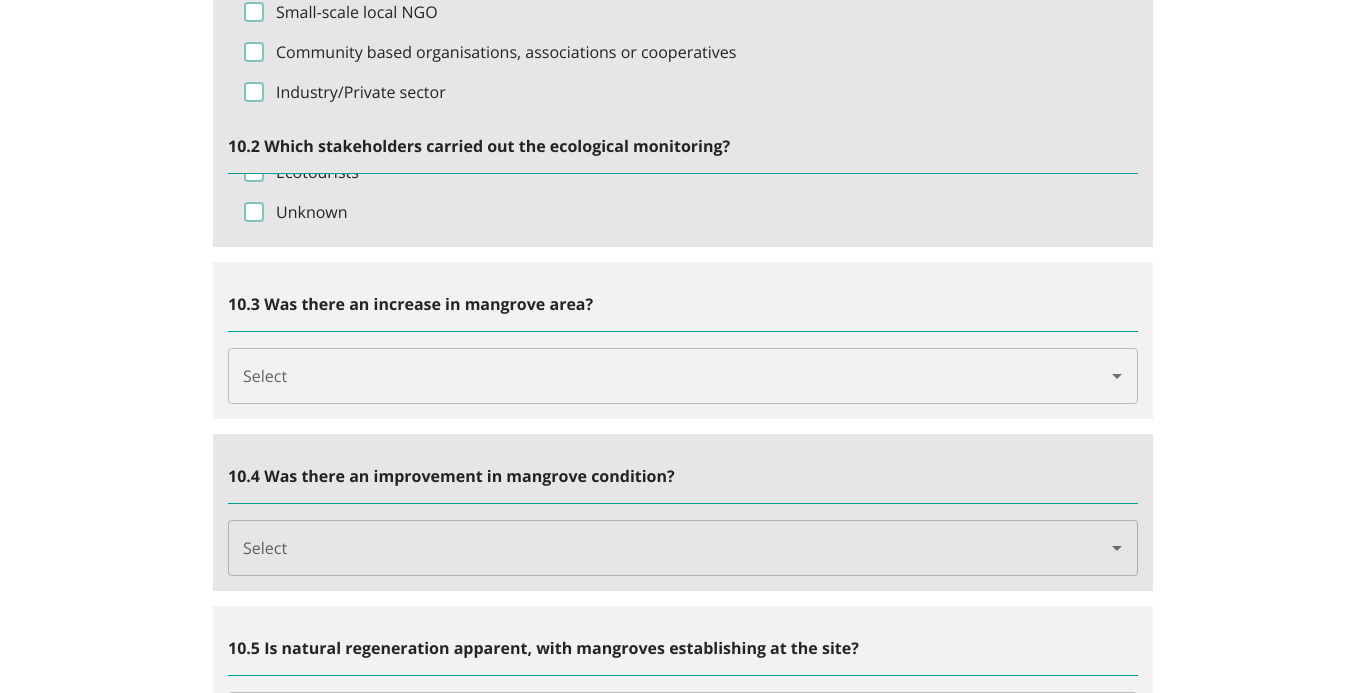
Test: monitoring forms › EcologicalStatusAndOutcomesForm › asks for the other unit only when "other" is picked
(page scrolled)
What coordinates should you click on to do the following:
click the dropdown named "10.3 Was there an increase in mangrove area?"
I would click on:
 (265, 376)
Its box is [228,348,1138,404].
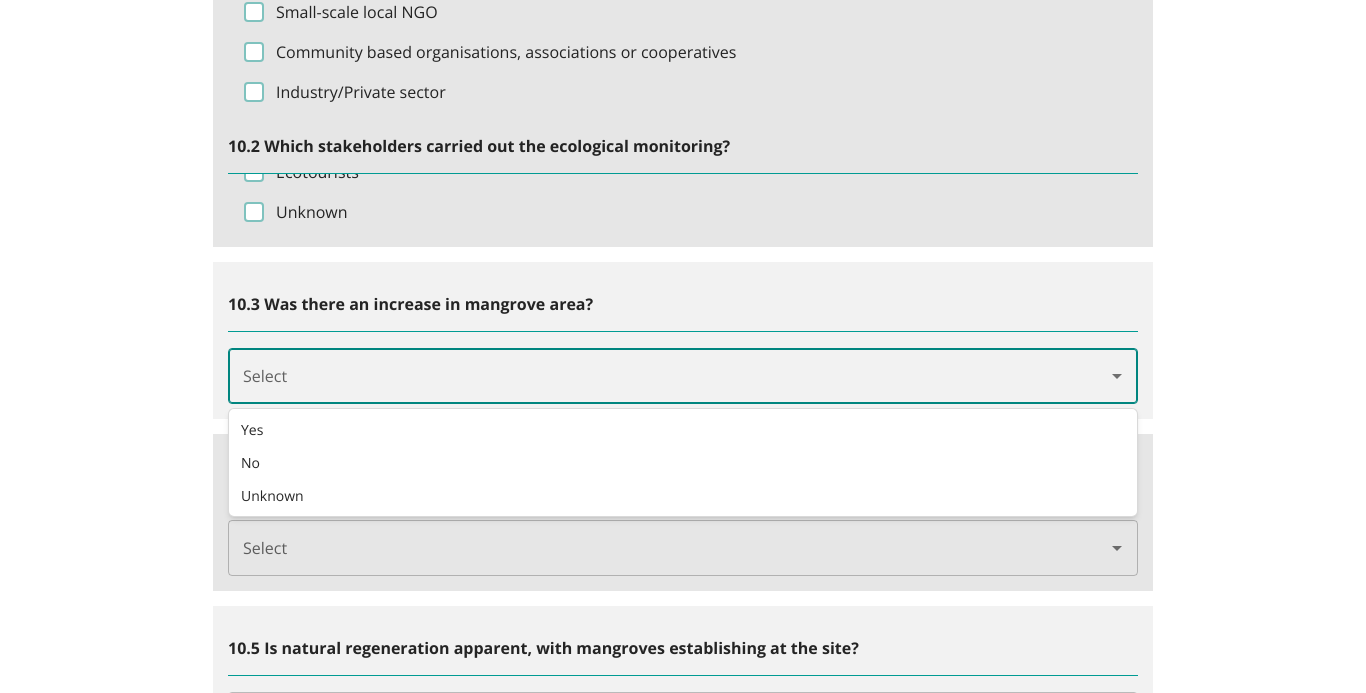
What coordinates should you click on to do the following:
click the option "Yes"
I would click on:
 (252, 430)
Its box is [241,420,263,439].
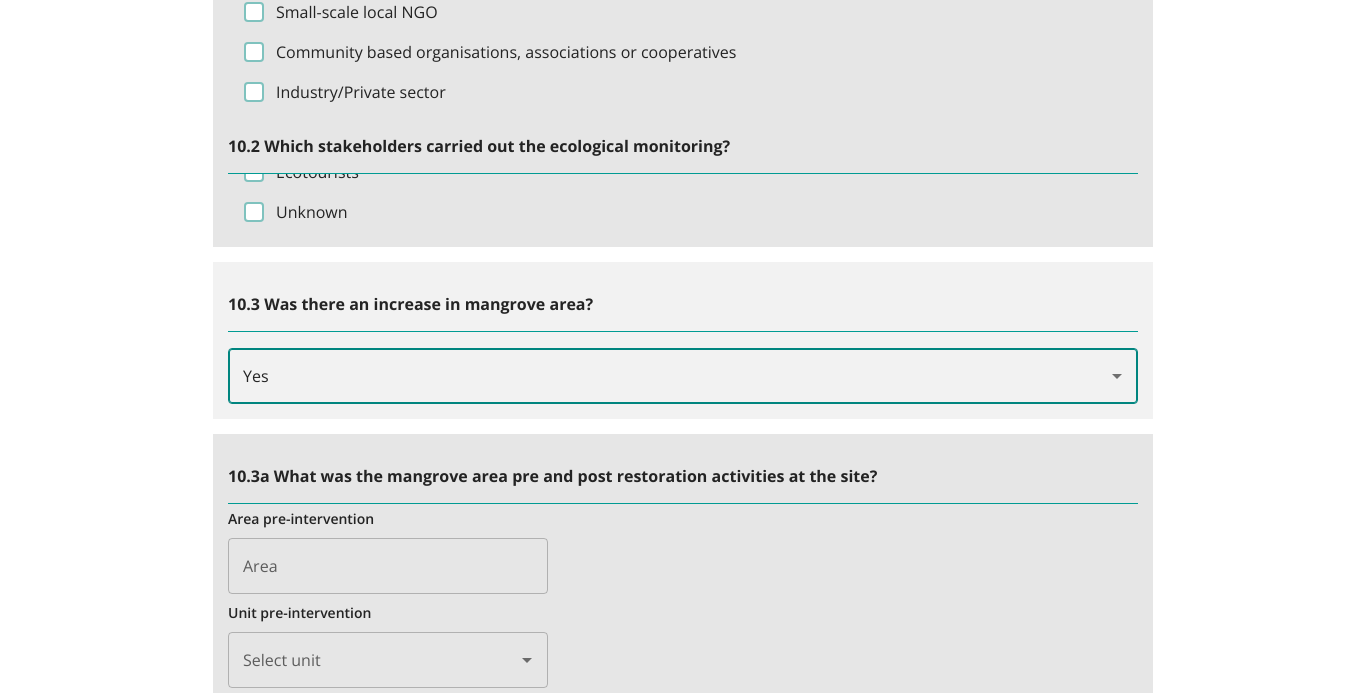
What coordinates should you click on to do the following:
click the dropdown named "Unit pre-intervention"
I would click on:
 (282, 660)
Its box is [228,632,548,688].
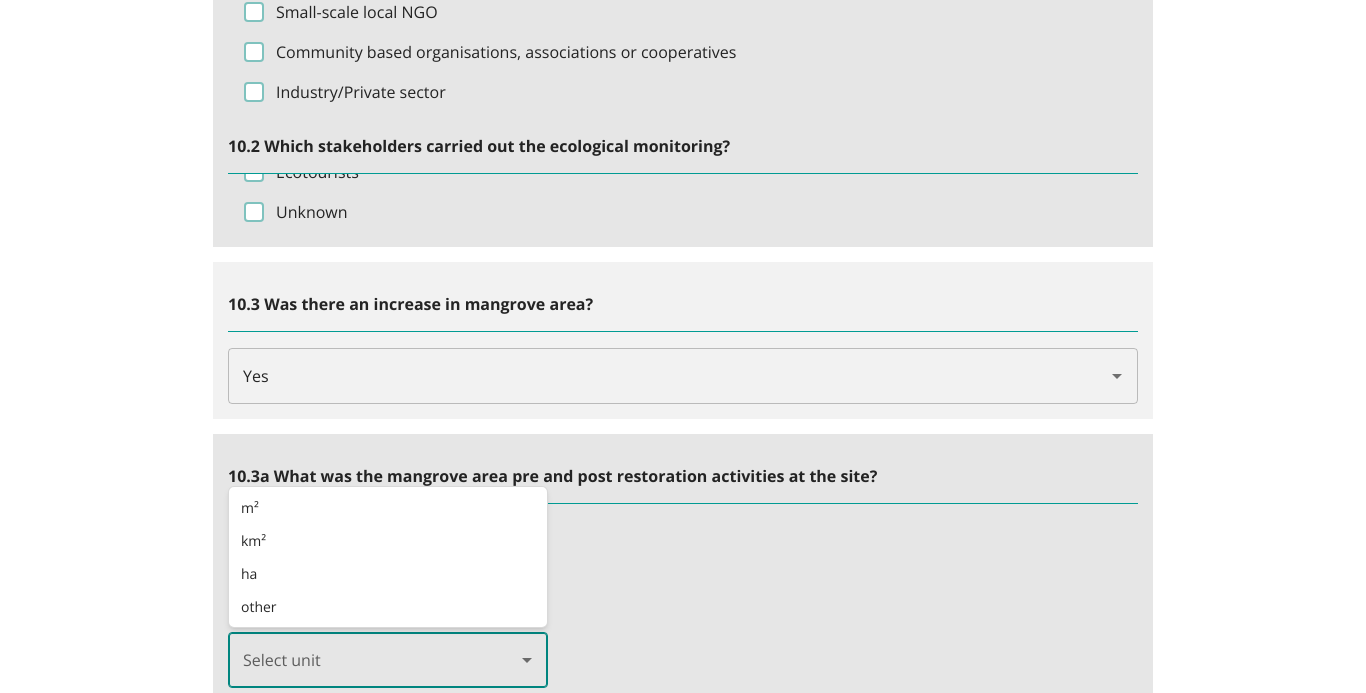
What coordinates should you click on to do the following:
click the option "other"
I would click on:
 (259, 606)
Its box is [241,597,277,616].
(page scrolled)
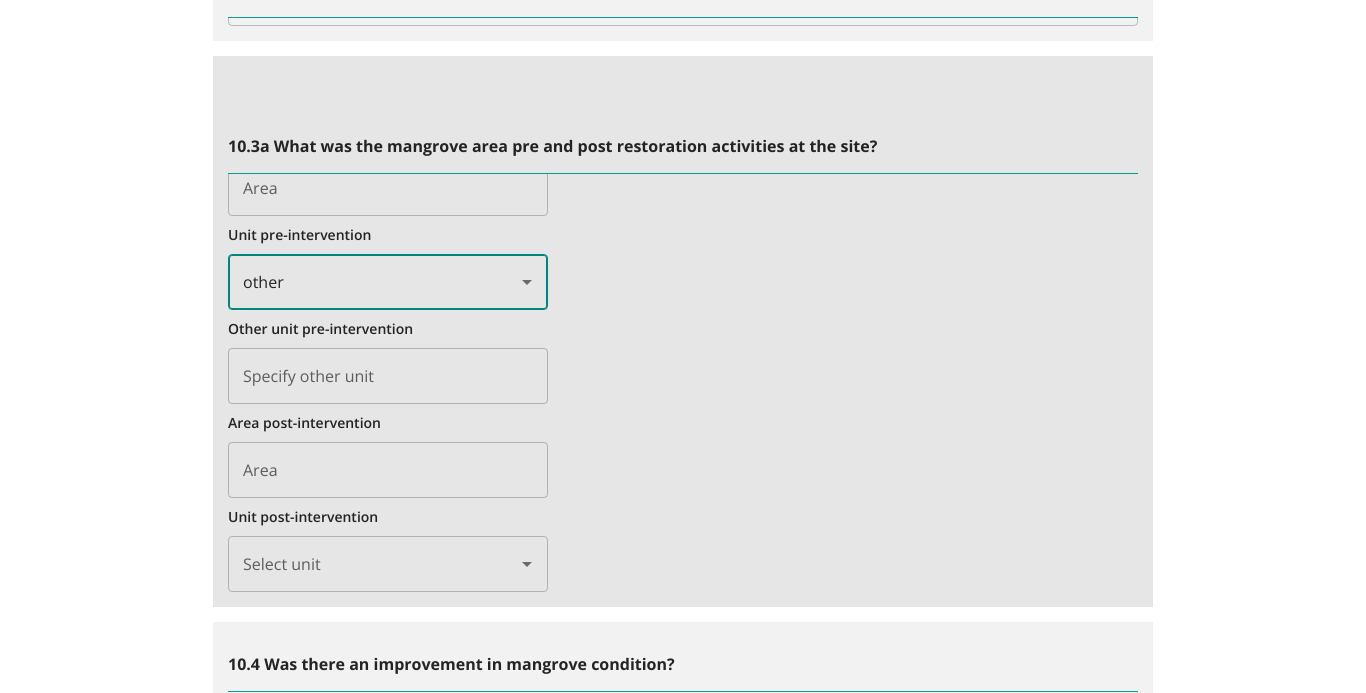
Expected: the field labelled "Other unit pre-intervention" is shown, [228,348,548,404]
